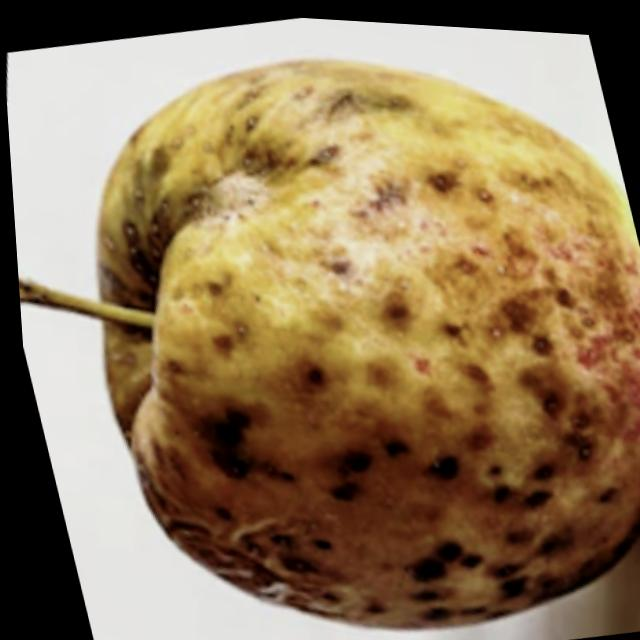organik: (11, 20, 640, 640)
